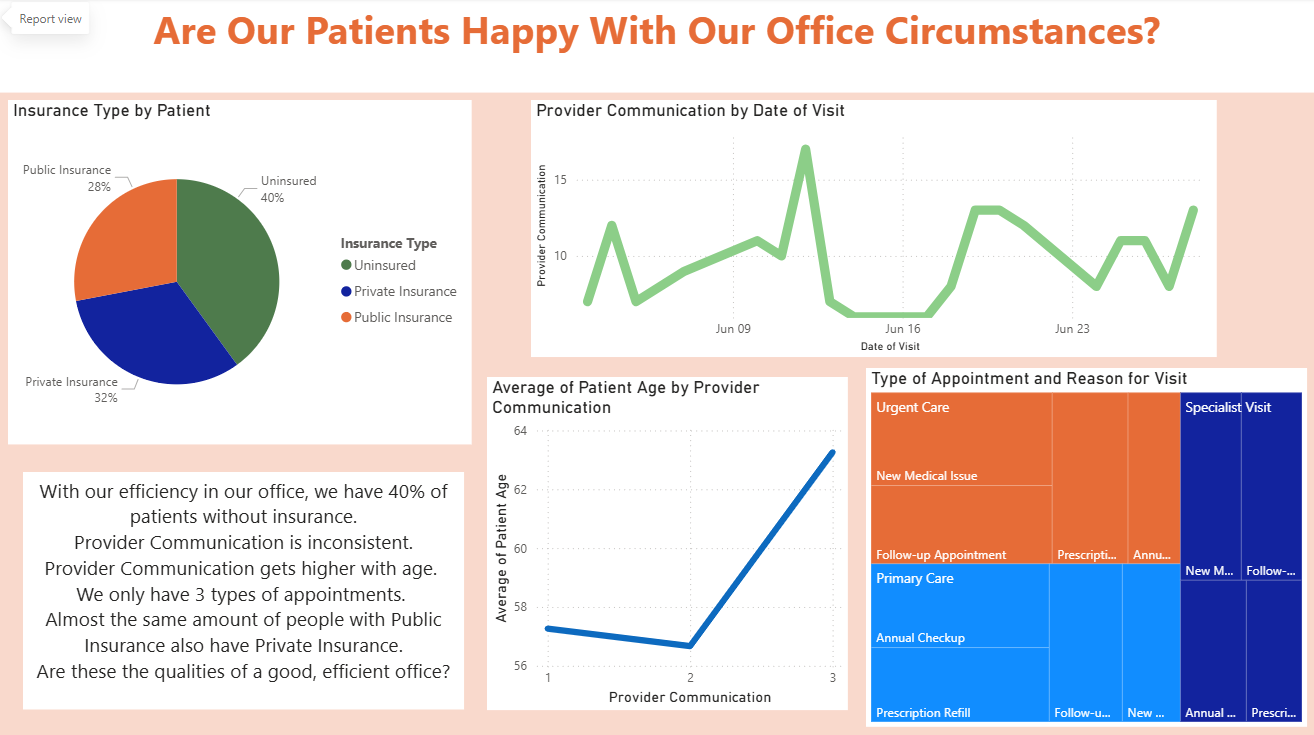

This screenshot's page, from the dashboard's own definition file:
{"tool":"powerbi","page":{"name":"Office Satisfaction Dashboard","canvas":[1280,720],"ordinal":1},"visuals":[{"type":"textbox","box":[0,0,1280,92.4],"z":0},{"type":"pieChart","title":"Insurance Type by Patient","fields":{"Category":["patient_experience_survey_data.Insurance Type"],"Y":["CountNonNull(patient_experience_survey_data.Insurance Type)"]},"box":[8.8,99.2,451.3,334.6],"z":1},{"type":"treemap","title":"Type of Appointment and Reason for Visit","fields":{"Group":["patient_experience_survey_data.Type of Appointment"],"Details":["patient_experience_survey_data.Reason for Visit"],"Values":["Sum(patient_experience_survey_data.Patient Age)"]},"box":[843.3,359.9,428.9,349.2],"z":2},{"type":"lineChart","fields":{"Category":["patient_experience_survey_data.Provider Communication"],"Y":["Avg(patient_experience_survey_data.Patient Age)"]},"box":[474.7,368.6,351.1,323.9],"z":3},{"type":"lineChart","title":"Provider Communication by Date of Visit","fields":{"Category":["patient_experience_survey_data.Date of Visit"],"Y":["Sum(patient_experience_survey_data.Provider Communication)"]},"box":[517.4,99.2,667.2,250],"z":4},{"type":"textbox","box":[23.3,450.3,436.7,250],"z":5}]}

Visuals, with their boxes on the page's 1280x720 design canvas (x1, y1, x2, y2). These are canvas units, not pixel positions in the 1314x735 screenshot, which may show the page scaled, cropped or inside an application window:
textbox: [left=0, top=0, right=1280, bottom=92]
"Insurance Type by Patient" pieChart: [left=9, top=99, right=460, bottom=434]
"Type of Appointment and Reason for Visit" treemap: [left=843, top=360, right=1272, bottom=709]
lineChart - patient_experience_survey_data.Provider Communication x Avg(patient_experience_survey_data.Patient Age): [left=475, top=369, right=826, bottom=692]
"Provider Communication by Date of Visit" lineChart: [left=517, top=99, right=1185, bottom=349]
textbox: [left=23, top=450, right=460, bottom=700]
